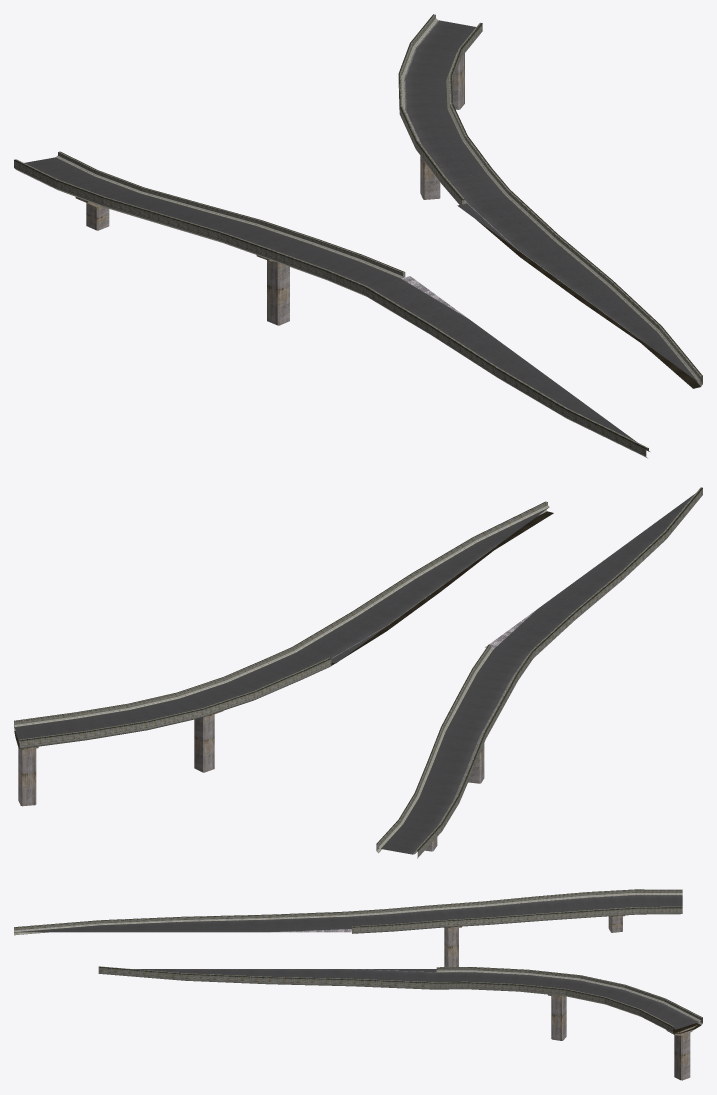
File: roadssfse01.obj
3 renders of one model, top to bottom at view 1: azimuth 30°, elevation 25°; view 2: azimuth 150°, elevation 25°; view 3: azimuth 270°, elevation 25°, orthographic. The views are drawn at different scales.
Parts seen in each view (by area): view 1: roadsSFSE01; view 2: roadsSFSE01; view 3: roadsSFSE01.
Part boxes in pixels (<box>): roadsSFSE01: <box>14,14,702,458</box>; roadsSFSE01: <box>14,487,702,858</box>; roadsSFSE01: <box>14,889,702,1080</box>.
Size of the model in its own units: 111 by 22.23 by 205.
4 materials, 4 textured.
